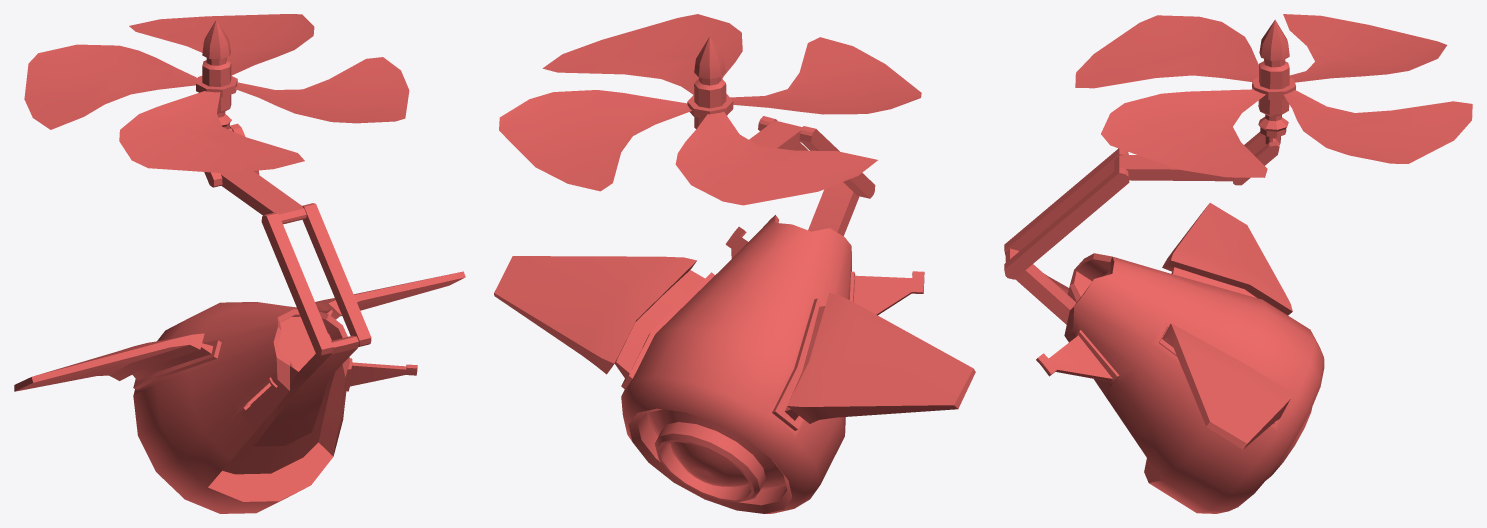
The model's file is Camera_.fbx.
The picture shows the model from 3 angles, left to right: view 1: azimuth 30°, elevation 25°; view 2: azimuth 150°, elevation 25°; view 3: azimuth 270°, elevation 25°; orthographic projection. The views are drawn at different scales.
Parts seen in each view (by area): view 1: Cylinder.003, Cylinder.001, Cylinder.006; view 2: Cylinder.003, Cylinder.001, Cylinder.006; view 3: Cylinder.003, Cylinder.001, Cylinder.006.
Boxes of the visible parts, bbox=[...] form: Cylinder.003: bbox=[14, 271, 465, 513]; Cylinder.001: bbox=[24, 14, 409, 173]; Cylinder.006: bbox=[196, 19, 371, 356]; Cylinder.003: bbox=[494, 182, 975, 513]; Cylinder.001: bbox=[499, 14, 921, 205]; Cylinder.006: bbox=[687, 36, 875, 198]; Cylinder.003: bbox=[1005, 203, 1324, 513]; Cylinder.001: bbox=[1075, 14, 1472, 177]; Cylinder.006: bbox=[1004, 19, 1295, 279].
Bounding box in the file's own units: 100 × 102 × 89.7.
